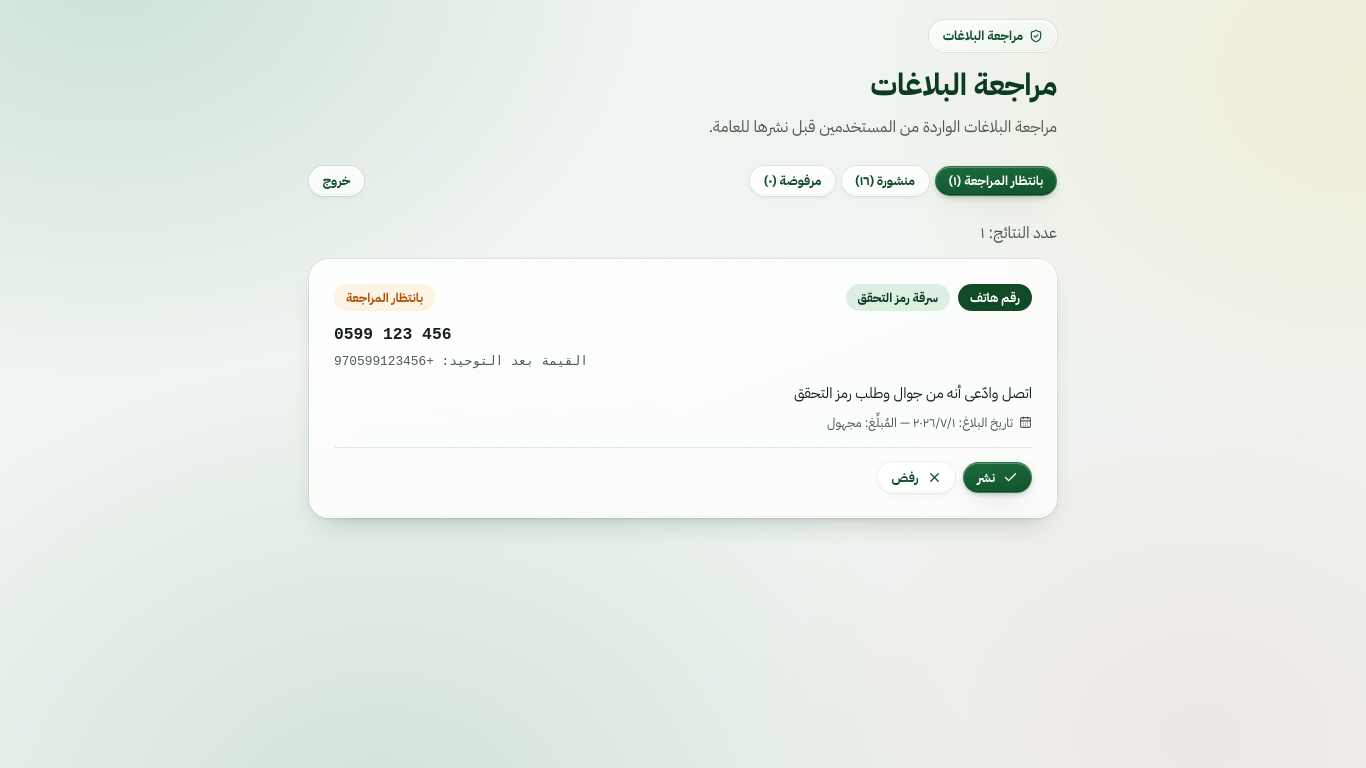
Scenario: Admin decisions › rejects a report
The image size is (1366, 768).
Click the button "رفض": (917, 478) [878, 462, 956, 493]
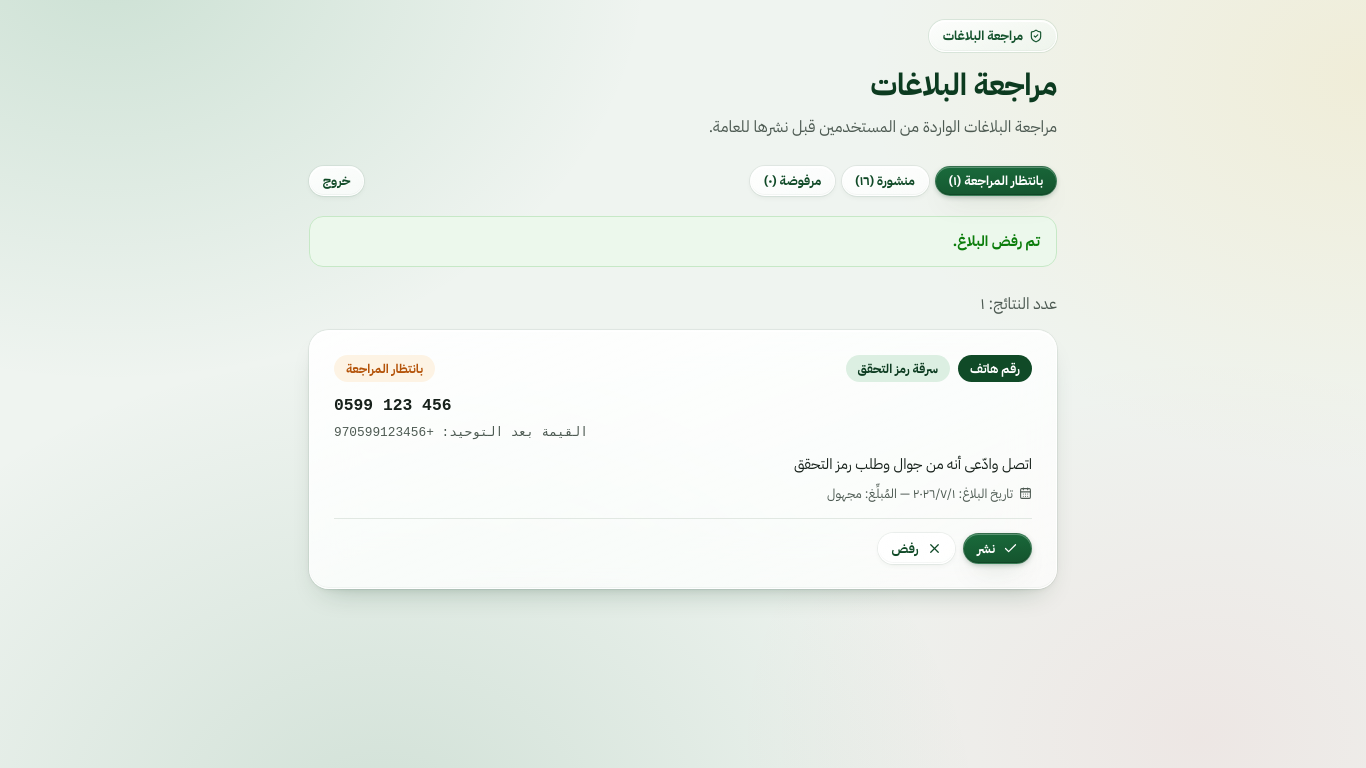
expect the text "تم رفض البلاغ." is shown: met, box [309, 216, 1057, 267]
